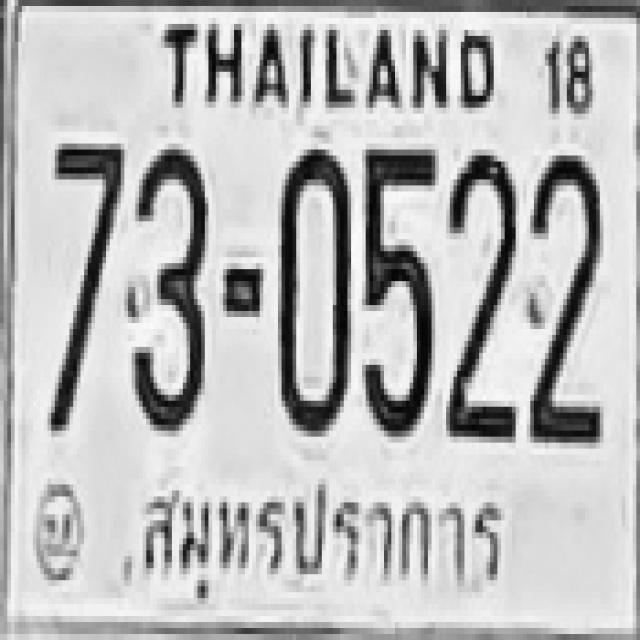0: (278, 144, 347, 430)
2: (526, 146, 600, 440), (444, 150, 514, 436)
3: (124, 144, 205, 430)
5: (361, 144, 434, 436)
7: (46, 138, 122, 424)
SamutPrakan: (130, 472, 506, 595)
